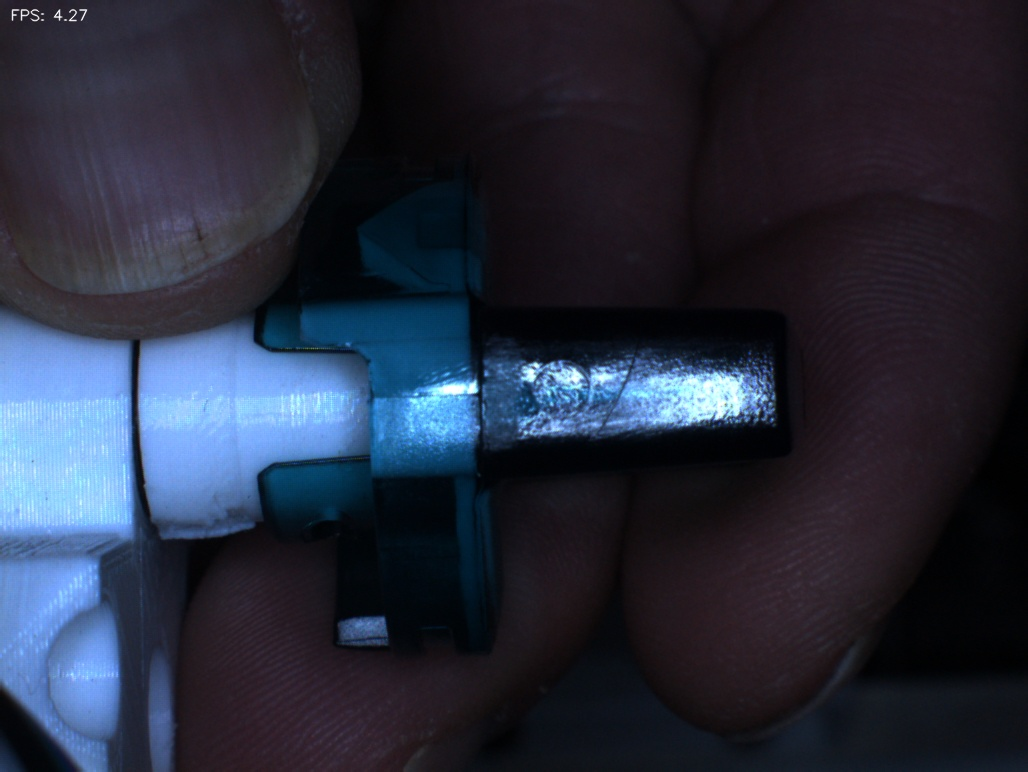DentOk: (331, 190, 405, 293)
